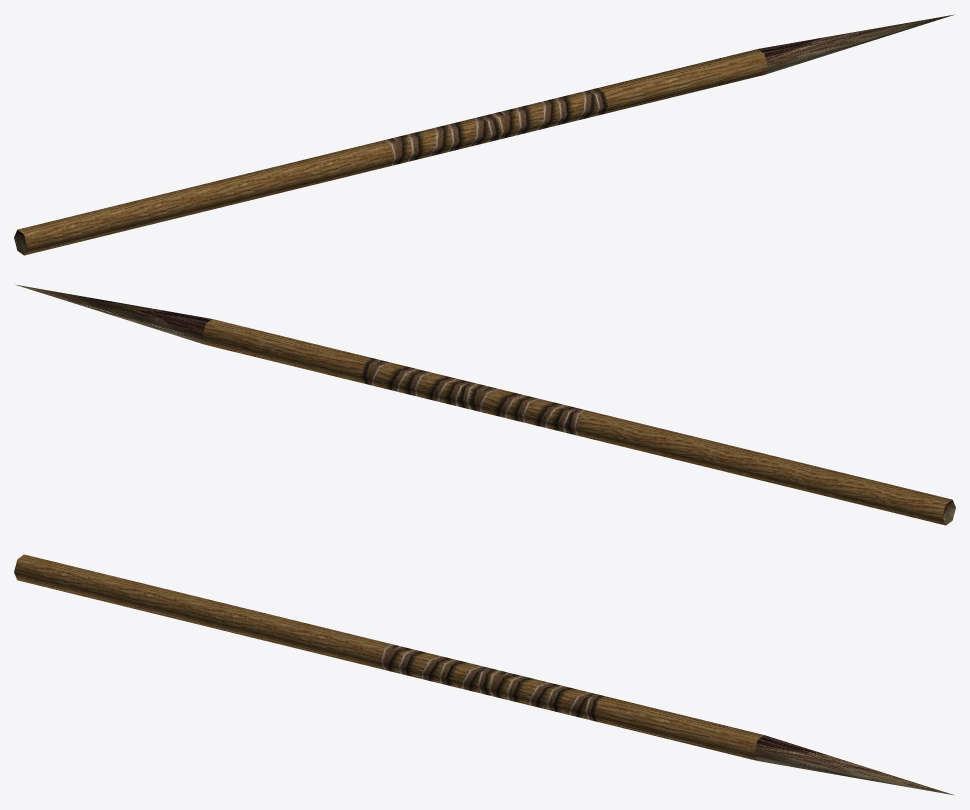
The picture shows the model from 3 angles, top to bottom: view 1: azimuth 30°, elevation 25°; view 2: azimuth 150°, elevation 25°; view 3: azimuth 330°, elevation 25°; orthographic projection.
Parts seen in each view (by area): view 1: IT10103_DMSPRITEDEF_node; view 2: IT10103_DMSPRITEDEF_node; view 3: IT10103_DMSPRITEDEF_node.
Boxes of the visible parts, x1,y1,x2,y2 form: IT10103_DMSPRITEDEF_node: [14, 14, 954, 255]; IT10103_DMSPRITEDEF_node: [15, 284, 955, 525]; IT10103_DMSPRITEDEF_node: [14, 554, 954, 795].
Size of the model in its own units: 4.02 by 0.0864 by 0.1001.
3 materials, 3 textured.
